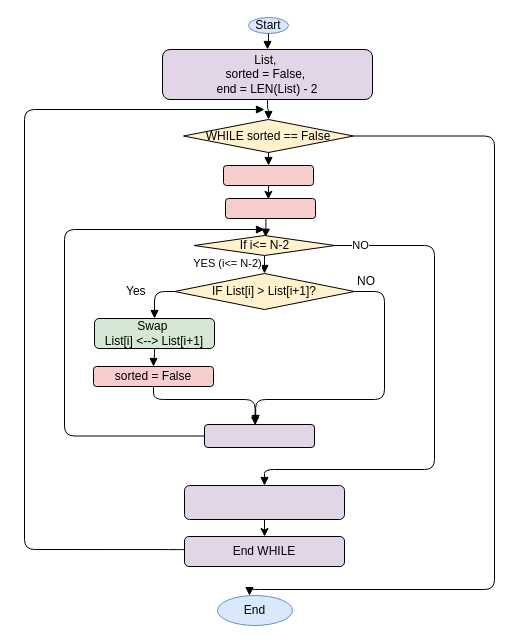
Image size: 520x643. Some labels were removed from this diagram. The box of each missing label's shape, as (x1, y1, x2, y2) in pixels:
end = end - 1: (184, 484, 344, 520)
FOR i=0 to end: (224, 198, 316, 218)
i=i+1: (204, 424, 314, 448)
sorted = True: (222, 164, 314, 186)
